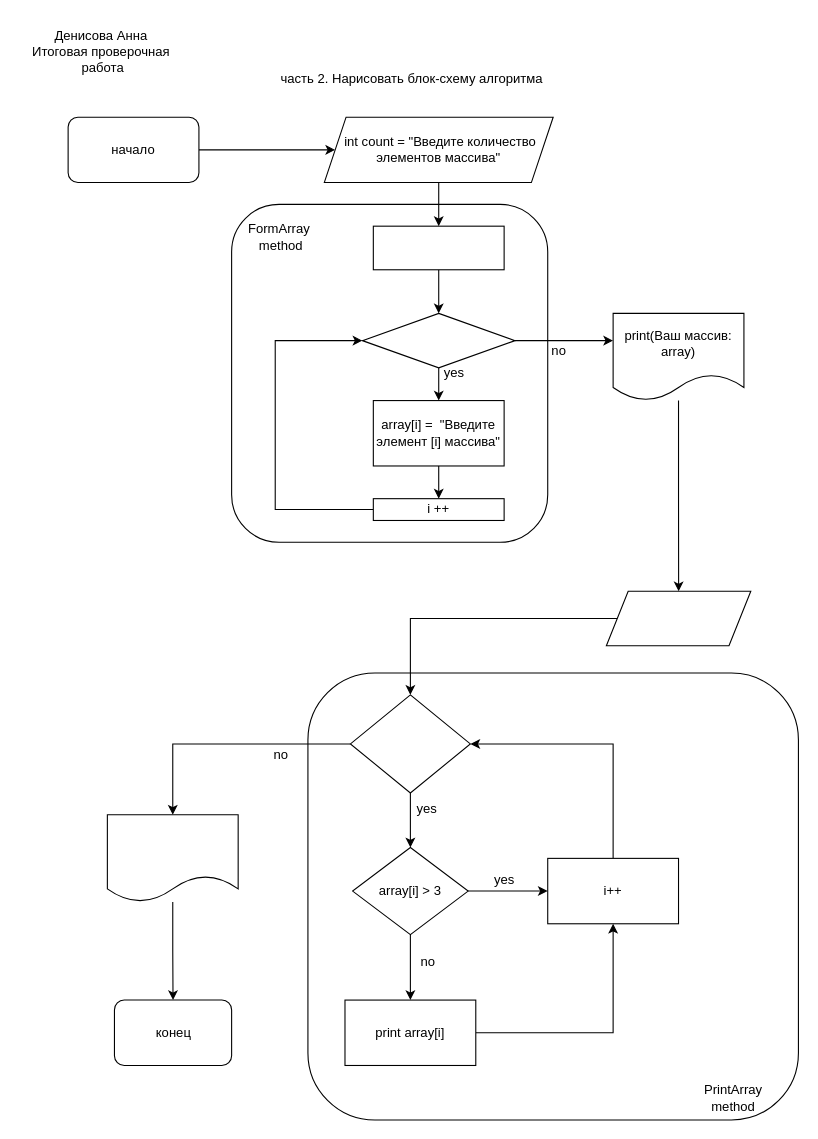
This 818x1139 diagram has some shape labels left out. Here are the shapes that lost their labels. From the top down, the centre of each, then its label:
the point at 438,247: int i = 0
the point at 438,340: i < count
the point at 678,618: string[] array;
the point at 409,743: i < array.Length
the point at 172,858: print(Вывод требуемого массива)
